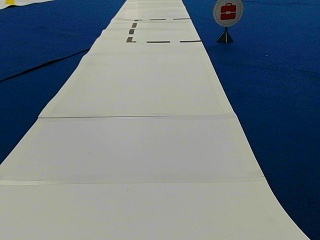company: (212, 0, 243, 26)
